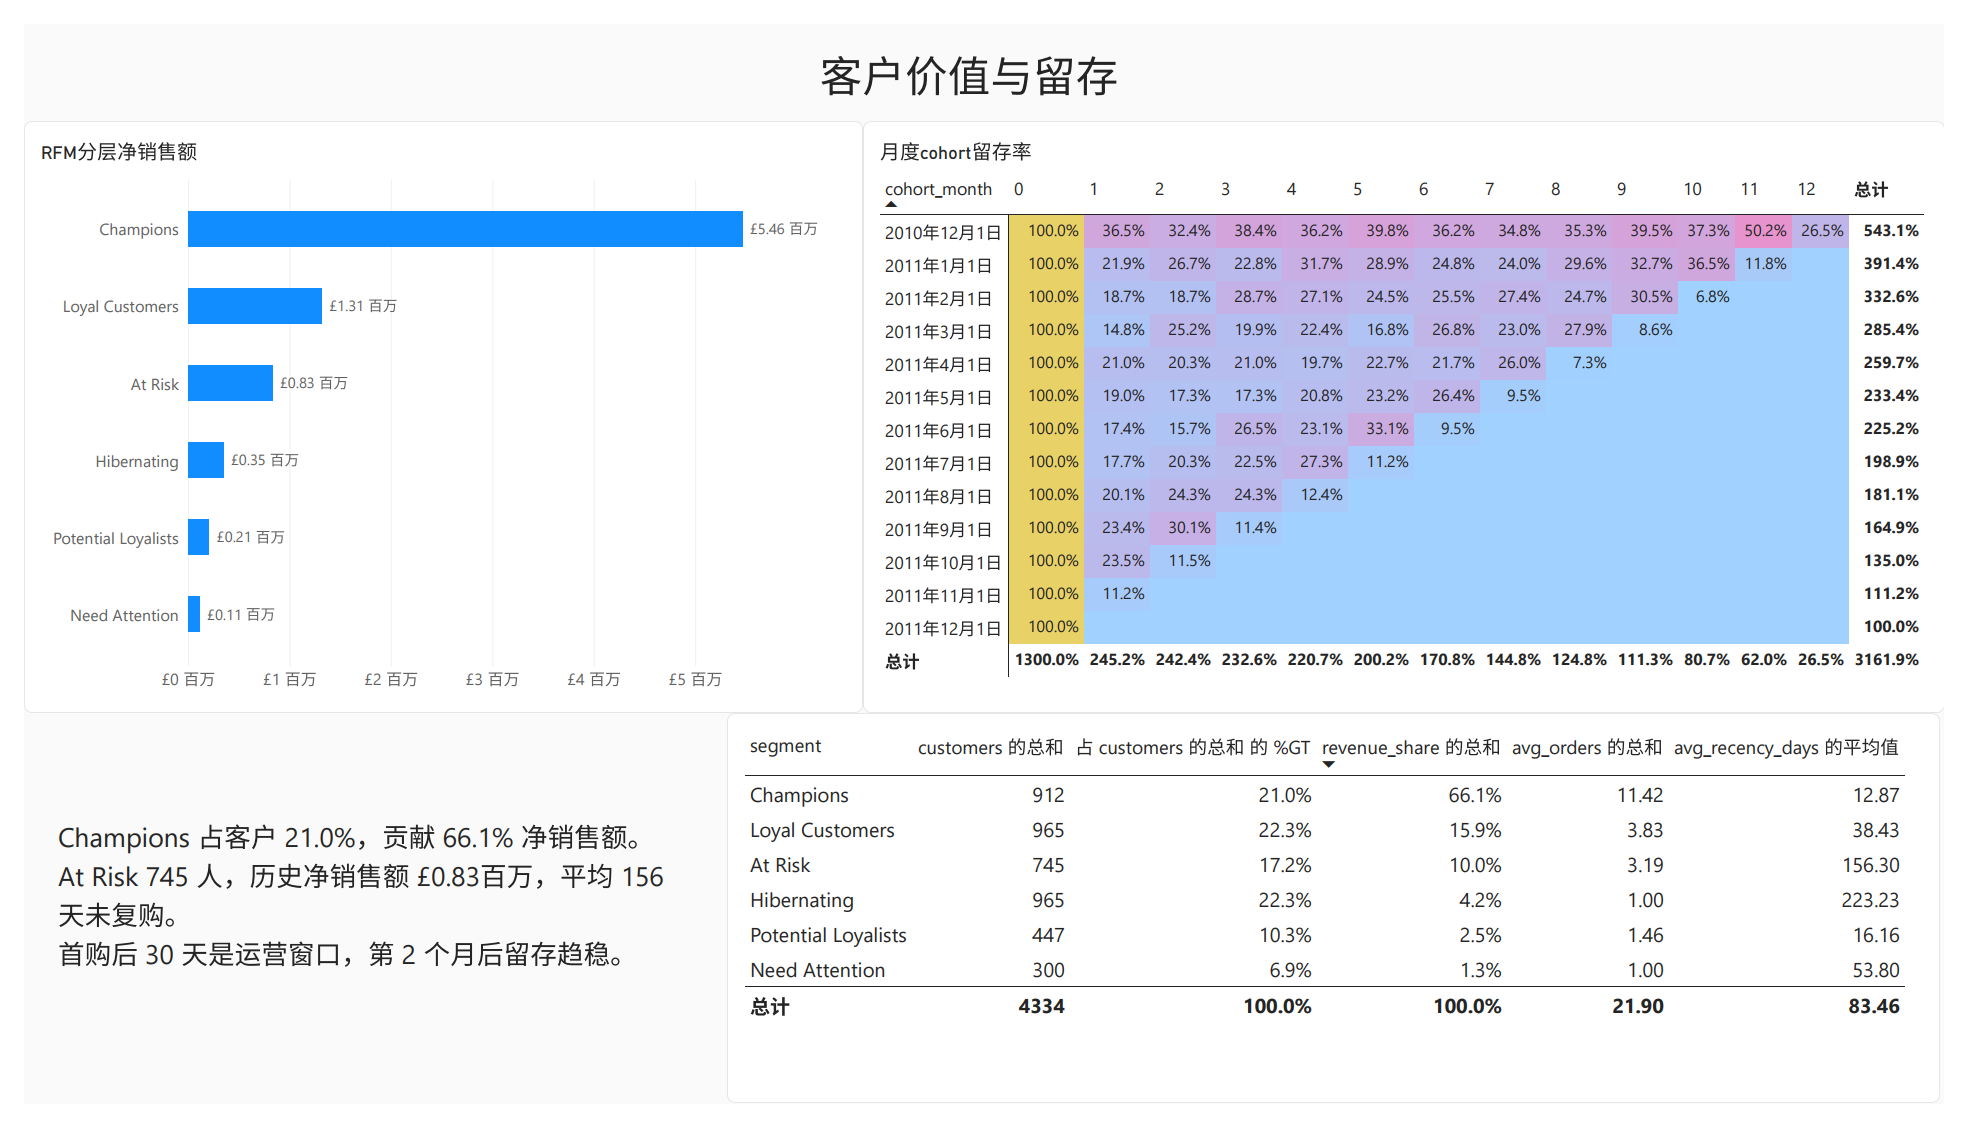

The dashboard page shown, as its layout file describes it:
{"tool":"powerbi","page":{"name":"第 3 页","canvas":[1920,1080],"ordinal":2},"visuals":[{"type":"textbox","box":[10.5,0,1868.4,97.4],"z":0},{"type":"clusteredBarChart","title":"RFM分层净销售额","fields":{"Category":["RFM.segment"],"Y":["Sum(RFM.net_revenue)"]},"box":[0,97.4,839.5,592.1],"z":1},{"type":"tableEx","fields":{"Values":["RFM.segment","Sum(RFM.customers)1","Sum(RFM.customers)","Sum(RFM.revenue_share)","Sum(RFM.avg_orders)","Avg(RFM.avg_recency_days)"]},"box":[702.6,689.5,1213.2,389.5],"z":2},{"type":"pivotTable","title":"月度cohort留存率","fields":{"Columns":["Cohort.period_index"],"Rows":["Cohort.cohort_month"],"Values":["Sum(Cohort.retention_rate)"]},"box":[839.5,97.4,1081.6,592.1],"z":3},{"type":"textbox","box":[34.2,792.1,636.8,286.8],"z":4}]}

Visuals, with their boxes in screenshot pixels (x1, y1, x2, y2), scaled from the page's 1920x1080 canvas onto the 1968x1128 screenshot:
textbox: box=[11, 0, 1926, 102]
"RFM分层净销售额" clusteredBarChart: box=[0, 102, 860, 720]
tableEx - RFM.segment x Sum(RFM.customers)1: box=[720, 720, 1964, 1127]
"月度cohort留存率" pivotTable: box=[860, 102, 1967, 720]
textbox: box=[35, 827, 688, 1127]
